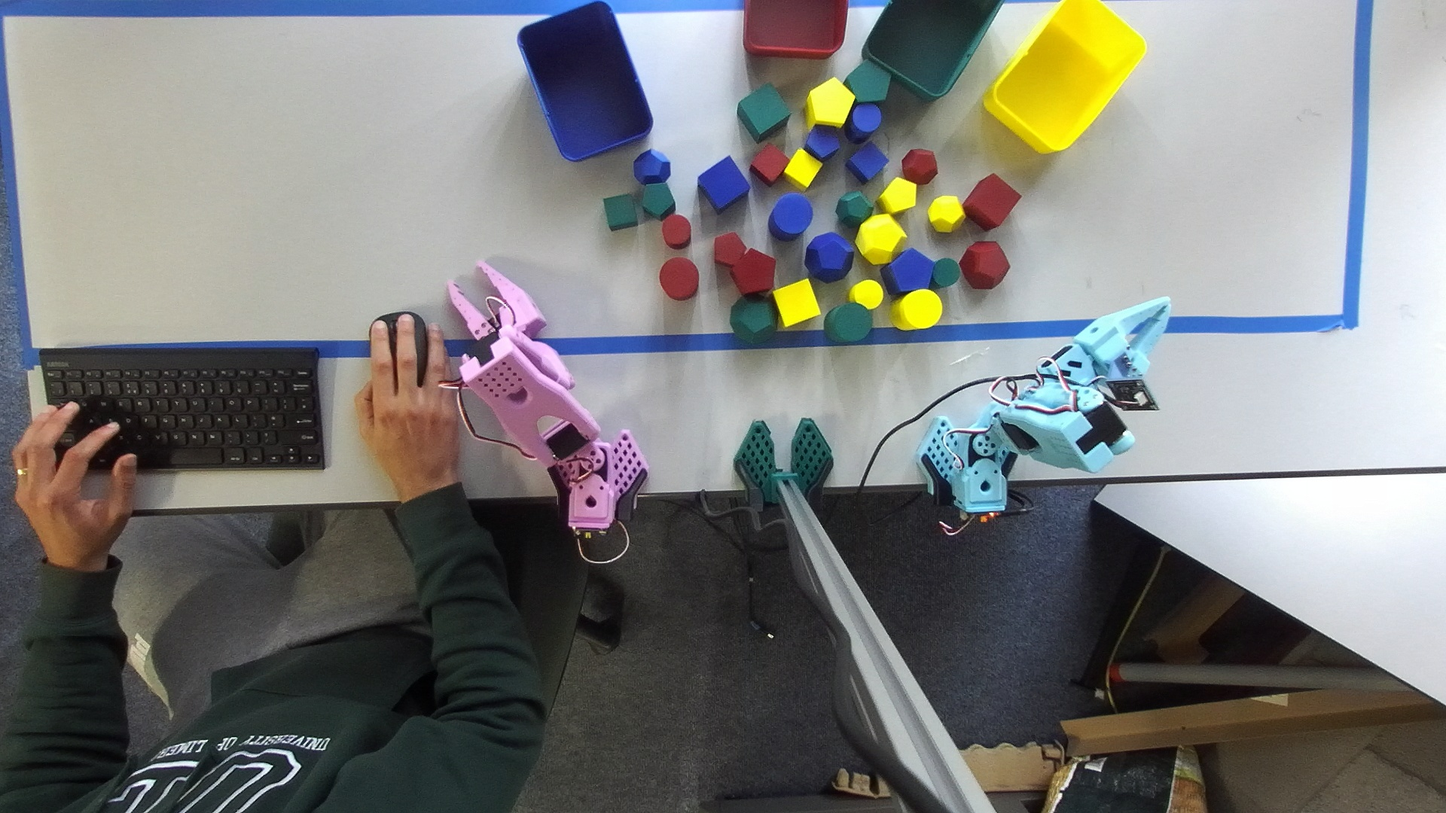bin: (983, 0, 1146, 152), (517, 0, 652, 161), (862, 0, 1002, 100), (743, 0, 847, 58)
cube: (962, 174, 1021, 230), (737, 84, 789, 142), (697, 156, 749, 212), (773, 279, 819, 327), (845, 142, 888, 182), (783, 148, 822, 187), (750, 145, 789, 184), (603, 193, 639, 230)
cylinder: (767, 193, 813, 240), (890, 290, 942, 330), (824, 302, 872, 343), (659, 257, 698, 300), (844, 102, 882, 144), (929, 257, 961, 290), (848, 279, 883, 309), (662, 213, 691, 248)
dodecahedron: (856, 214, 906, 265), (804, 232, 854, 282), (959, 242, 1009, 289), (730, 294, 776, 343), (927, 195, 965, 233), (835, 191, 873, 227), (901, 148, 938, 184), (633, 149, 670, 184)
gripper: (1073, 297, 1170, 379), (447, 260, 546, 340)
hexagonal: (880, 248, 934, 297), (805, 78, 854, 127), (731, 248, 775, 294), (843, 59, 889, 102), (877, 178, 916, 213), (804, 124, 840, 160), (641, 181, 675, 218), (713, 232, 745, 266)
